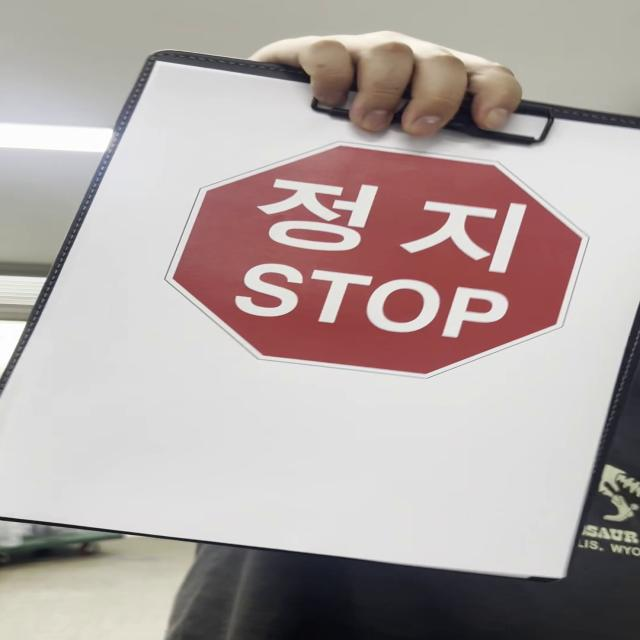stop: (163, 143, 598, 380)
